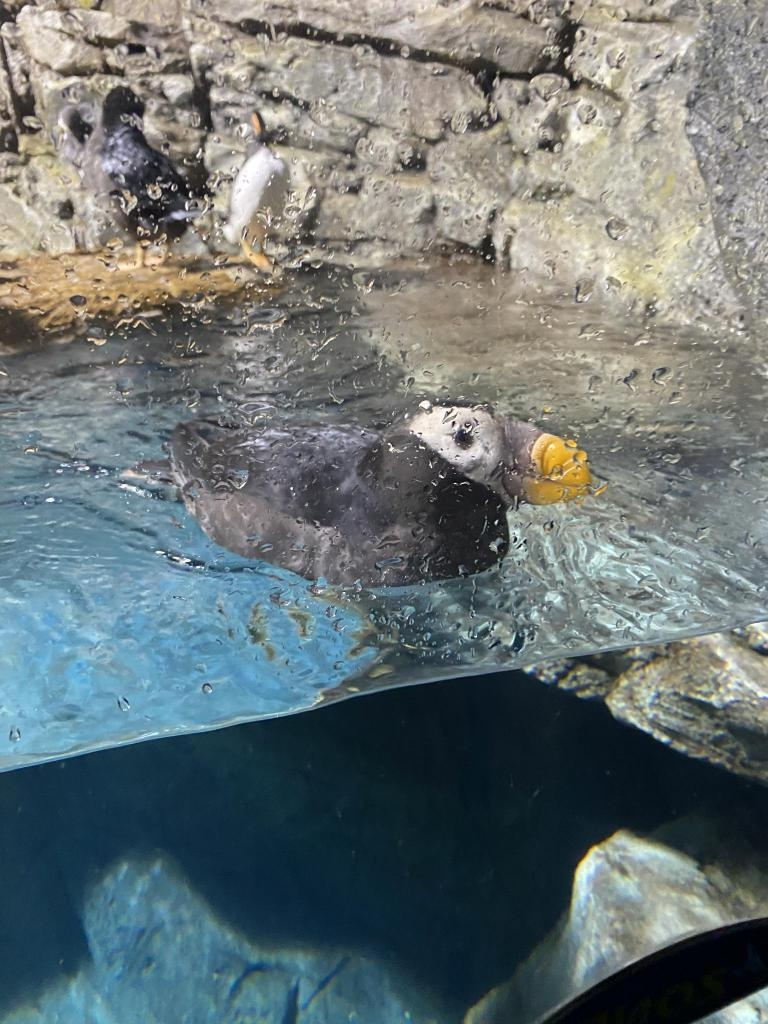puffin: (122, 398, 592, 586), (83, 88, 208, 260), (57, 102, 150, 252), (222, 108, 288, 270)
